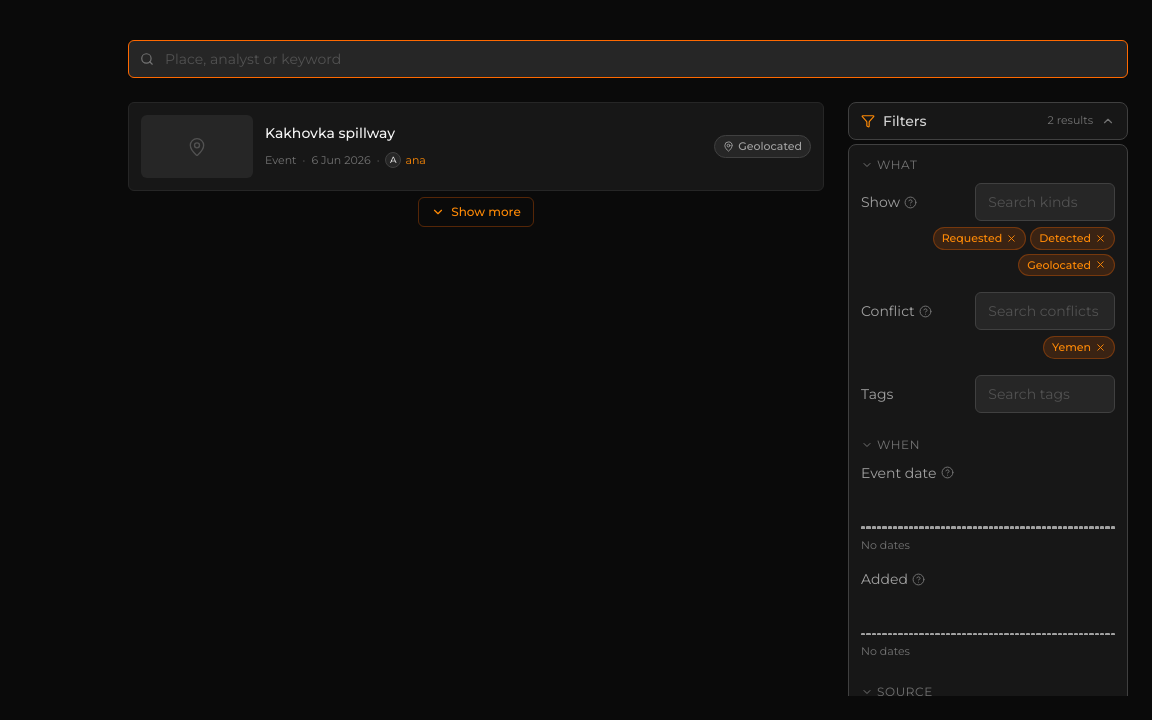
Scenario: the list of one kind › appends the next page from the cursor, with the request that minted it
This screenshot has width=1152, height=720.
Expected: the heading "Kakhovka spillway" is shown, [265,124,395,142]
Click the button "Show more": {"x": 476, "y": 212} [418,197,534,227]
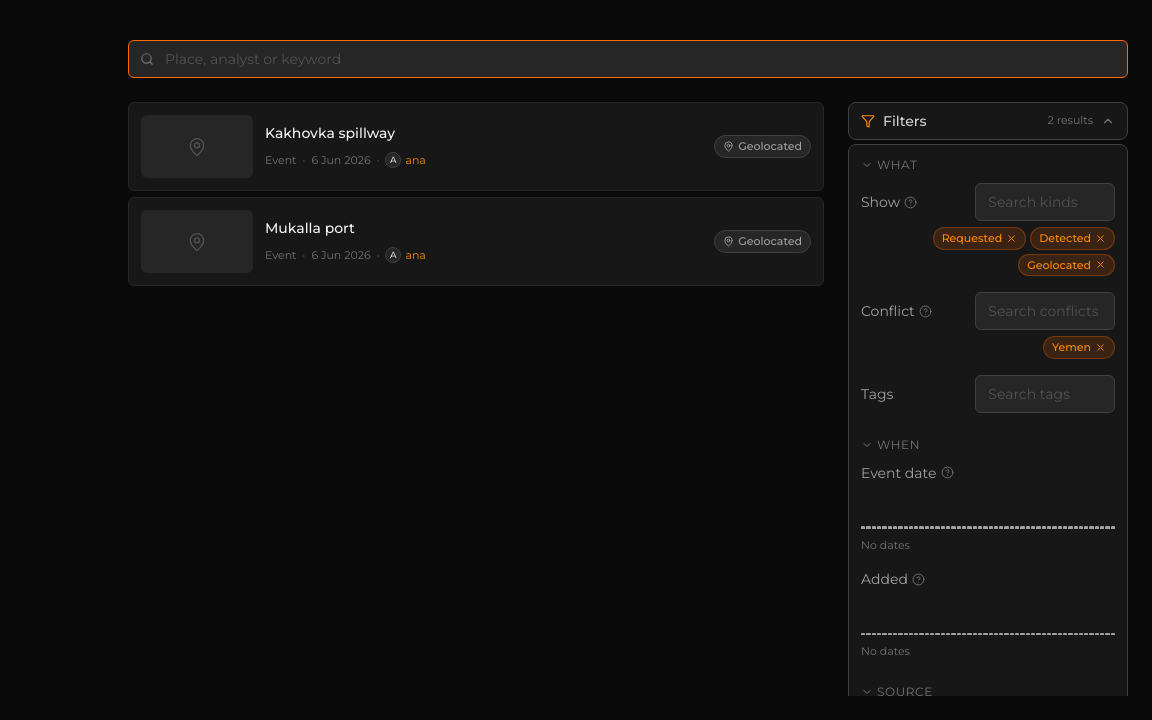
Expected: the heading "Kakhovka spillway" is shown, [265,124,395,142]
Expected: the heading "Mukalla port" is shown, [265,218,355,236]
Expected: the button "Show more" is gone
